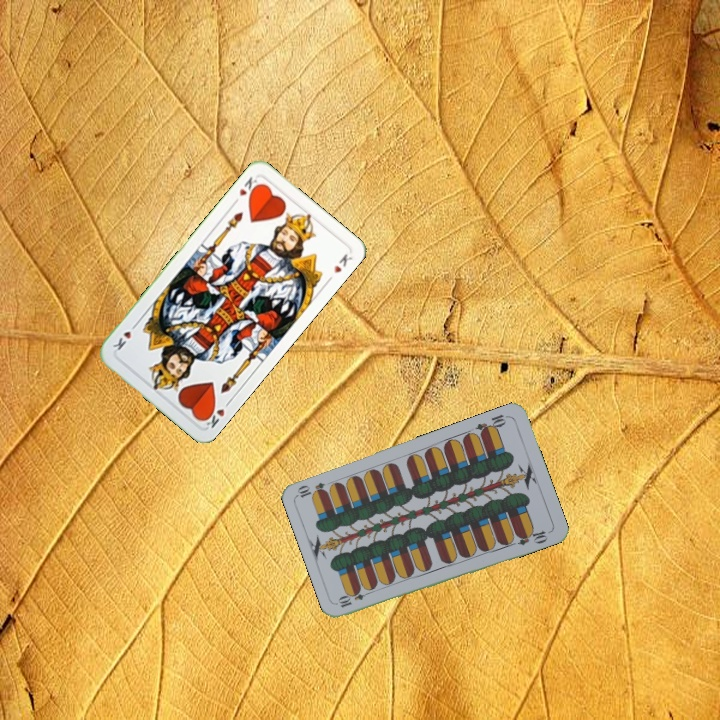E10: (472, 410, 511, 438), (334, 586, 374, 610)
HK: (198, 396, 234, 431), (229, 172, 262, 207)
